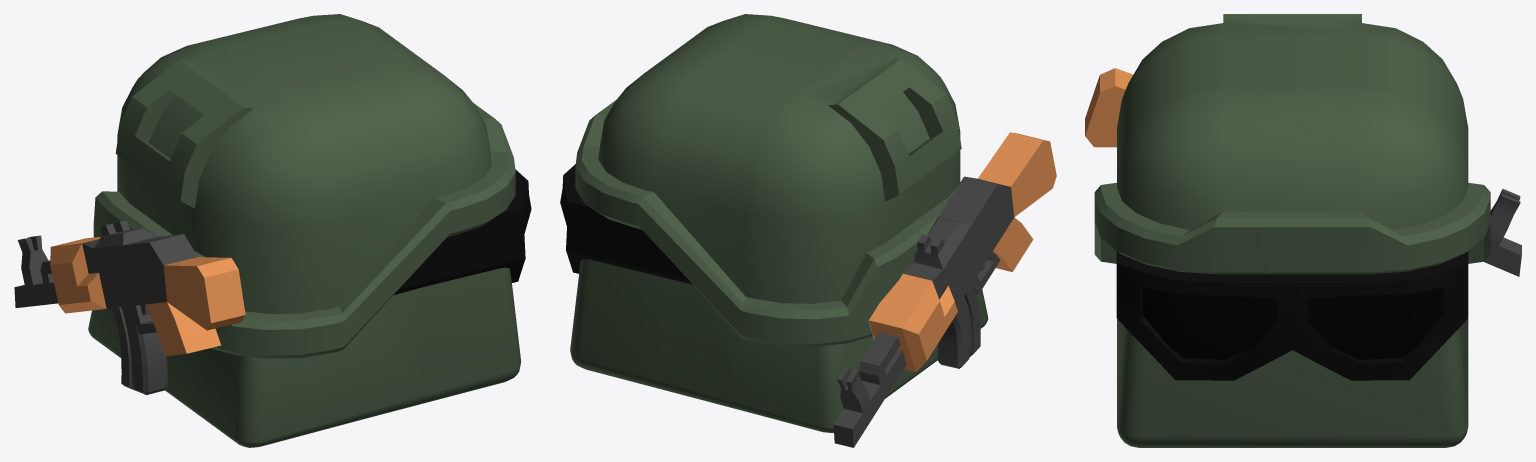
The model's file is cube_soldier.glb.
3 renders of one model, left to right at view 1: azimuth 30°, elevation 25°; view 2: azimuth 150°, elevation 25°; view 3: azimuth 270°, elevation 25°, orthographic. The views are drawn at different scales.
Visible parts, largest first — view 1: cube_soldier; view 2: cube_soldier; view 3: cube_soldier.
Boxes of the visible parts, x1,y1,x2,y2 form: cube_soldier: [14, 14, 531, 447]; cube_soldier: [560, 14, 1056, 447]; cube_soldier: [1085, 14, 1521, 447].
Bounding box in the file's own units: 2.65 × 2.03 × 2.48.
